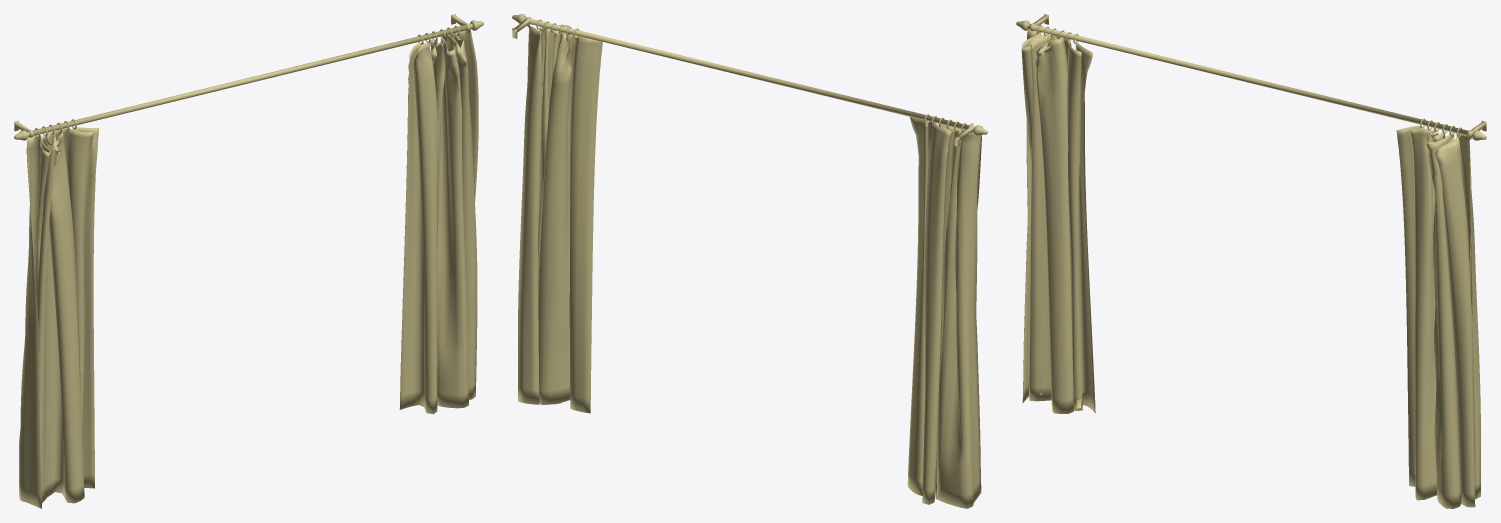
Rendered from Curtains.fbx.
3 views of the same model, side by side, from view 1: azimuth 30°, elevation 25°; view 2: azimuth 150°, elevation 25°; view 3: azimuth 330°, elevation 25° (orthographic).
Visible parts, largest first — view 1: Curtains; view 2: Curtains; view 3: Curtains.
Boxes of the visible parts, <box> form: Curtains: <box>14,14,483,508</box>; Curtains: <box>512,14,987,508</box>; Curtains: <box>1016,14,1486,508</box>.
Size of the model in its own units: 300 by 229 by 33.27.
